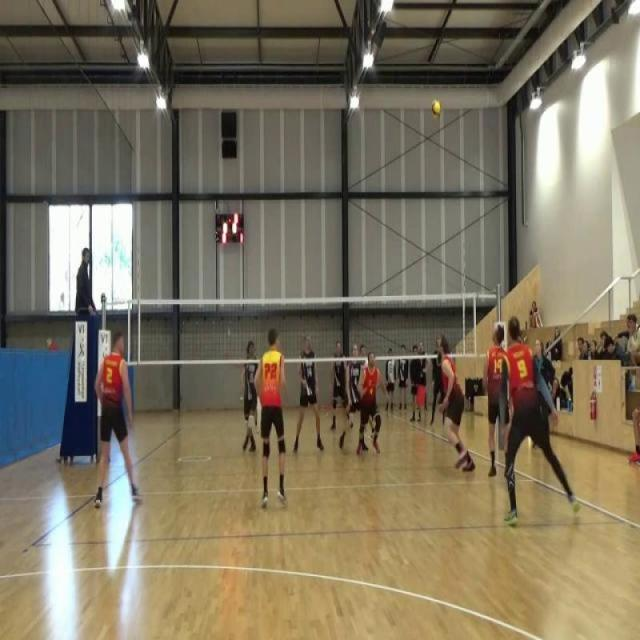volleyball: (430, 98, 442, 120), (45, 337, 53, 350)
